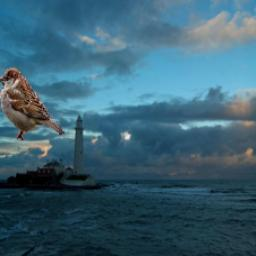Sparrow: (0, 68, 66, 141)
